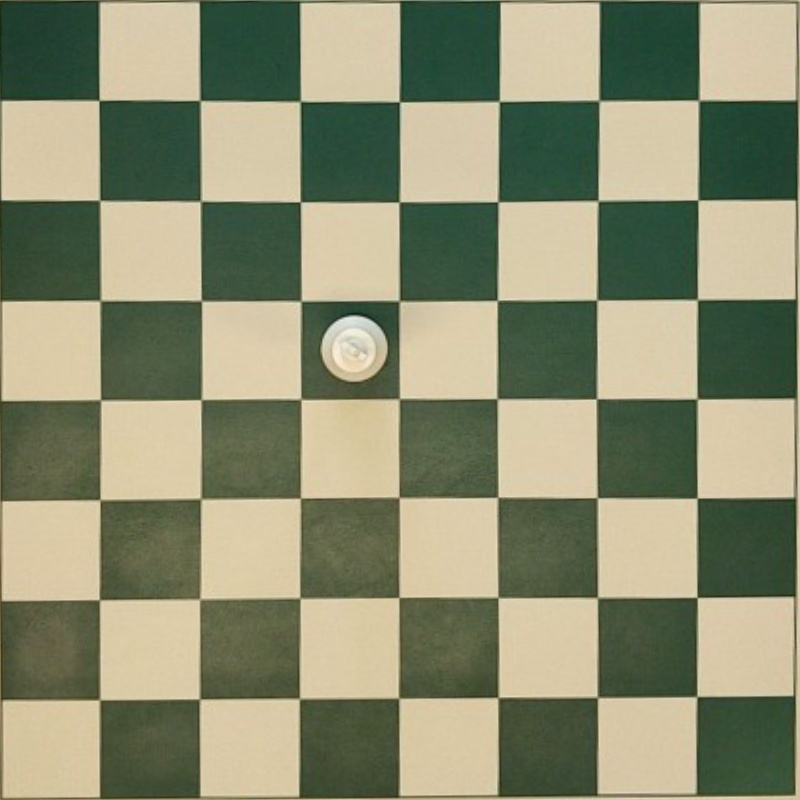white-king: (321, 315, 388, 383)
